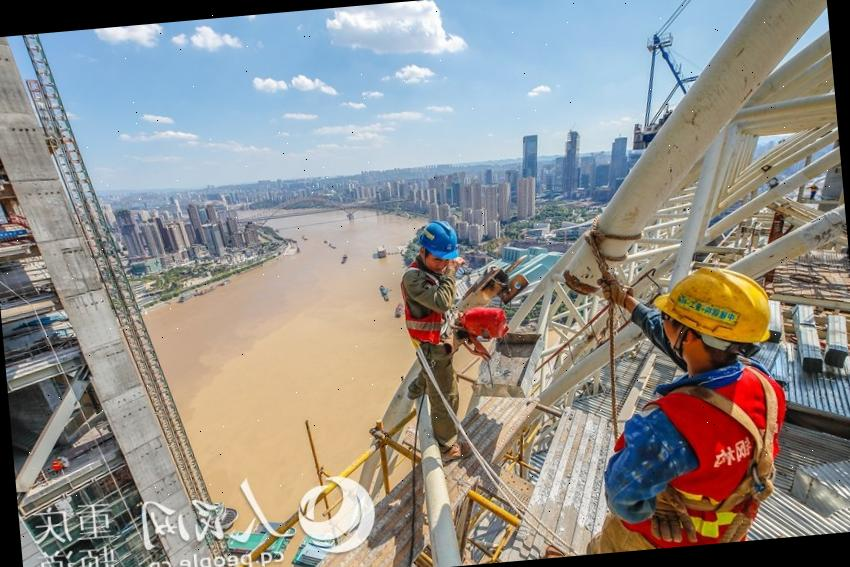helmet: (652, 253, 794, 354), (413, 218, 461, 256)
wear: (640, 369, 782, 543), (398, 267, 462, 353)
